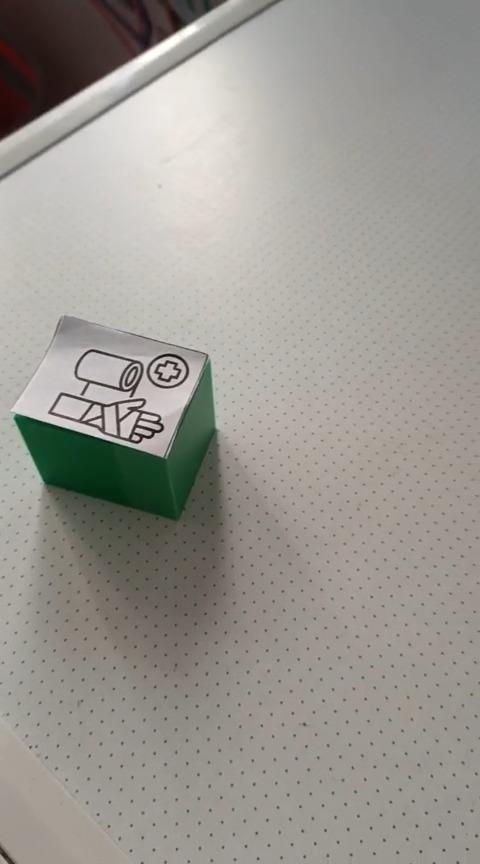Bandages: (15, 316, 218, 522)
